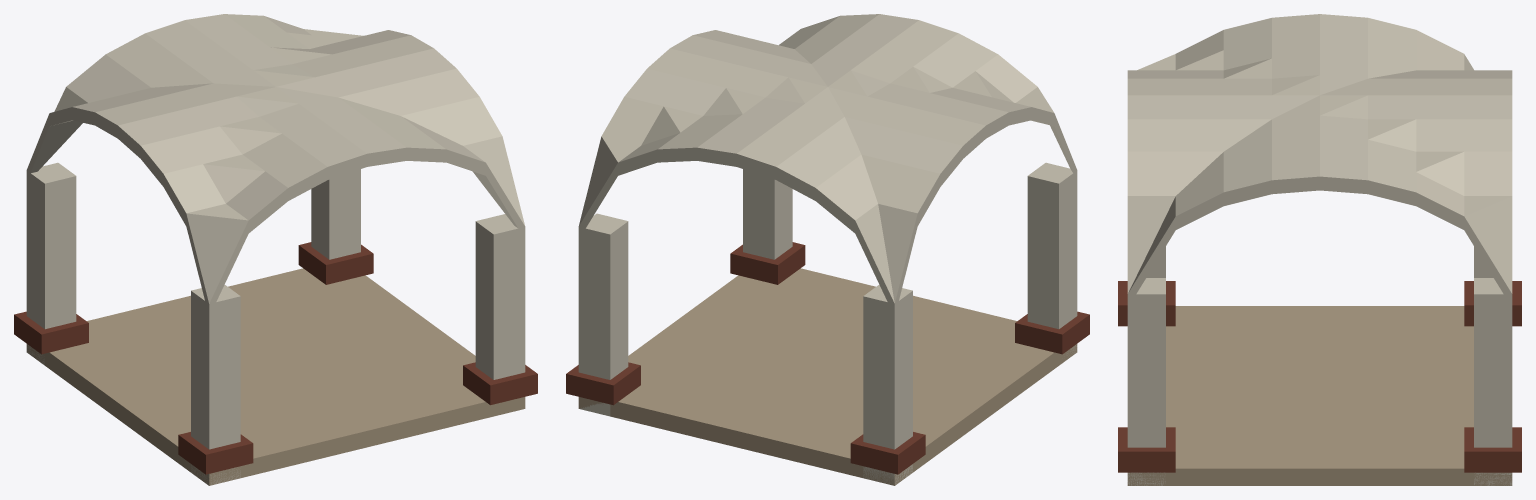
The model's file is CellarBay__Vaulted.fbx.
3 views of the same model, side by side, from view 1: azimuth 30°, elevation 25°; view 2: azimuth 150°, elevation 25°; view 3: azimuth 270°, elevation 25° (orthographic). The views are drawn at different scales.
Visible parts, largest first — view 1: CellarBay__Vaulted; view 2: CellarBay__Vaulted; view 3: CellarBay__Vaulted.
Part boxes in pixels (x1,y1,x2,y2): CellarBay__Vaulted: (14,14,537,485); CellarBay__Vaulted: (566,14,1089,485); CellarBay__Vaulted: (1118,14,1521,485).
Size of the model in its own units: 420 by 355 by 420.
Materials: 1 (1 with a texture image).
